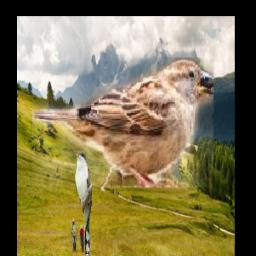Cuckoo: (75, 152, 93, 256)
Sparrow: (33, 58, 214, 188)
